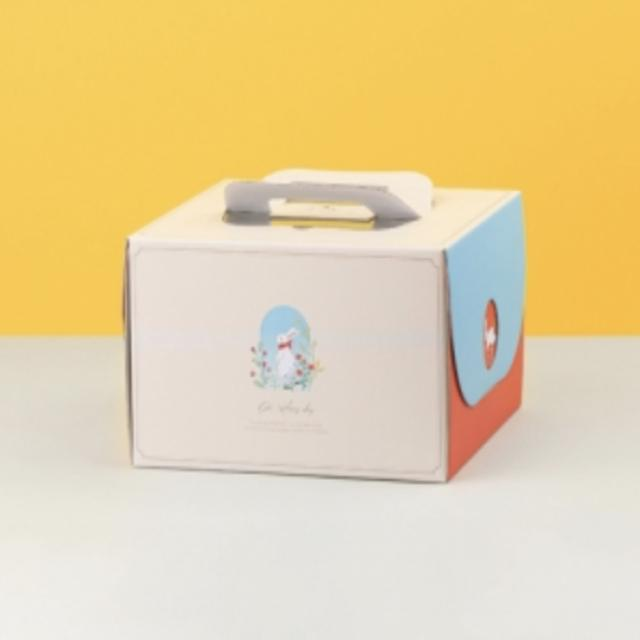biodegradable: (94, 114, 579, 528)
